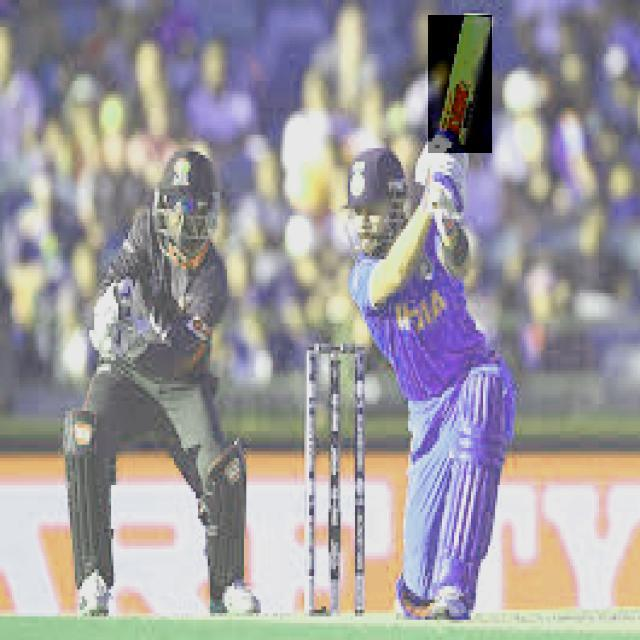bat: (429, 14, 492, 153)
toe: (460, 11, 494, 21)
